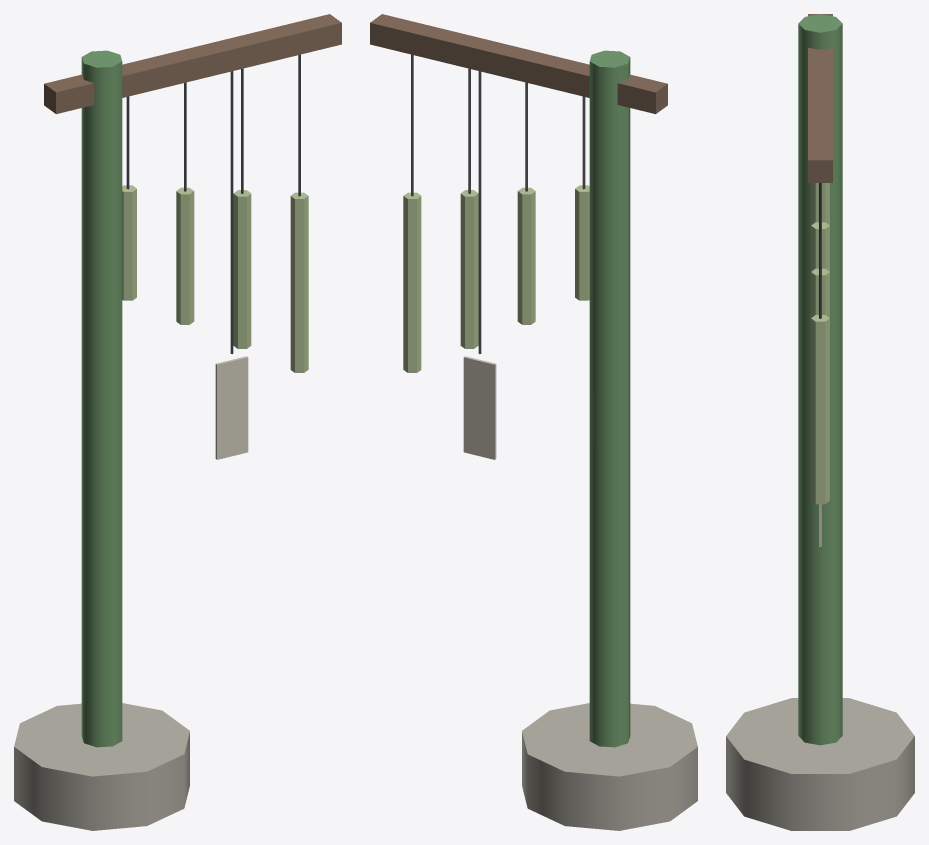
Rendered from wind_chime_post.glb.
3 views of the same model, side by side, from view 1: azimuth 30°, elevation 25°; view 2: azimuth 150°, elevation 25°; view 3: azimuth 270°, elevation 25° (orthographic). The views are drawn at different scales.
Visible parts, largest first — view 1: ChimePost; view 2: ChimePost; view 3: ChimePost.
Boxes of the visible parts, x1,y1,x2,y2 form: ChimePost: (14,14,341,830); ChimePost: (370,14,697,830); ChimePost: (726,14,914,830).
Size of what is drawn, in the model's own units: 1.19 by 2.7 by 0.6.
